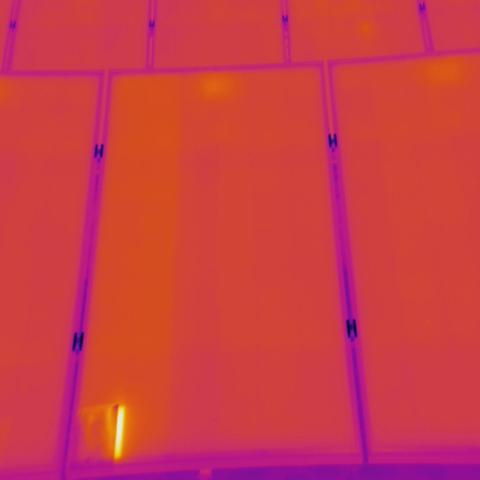fault: (72, 402, 131, 460)
